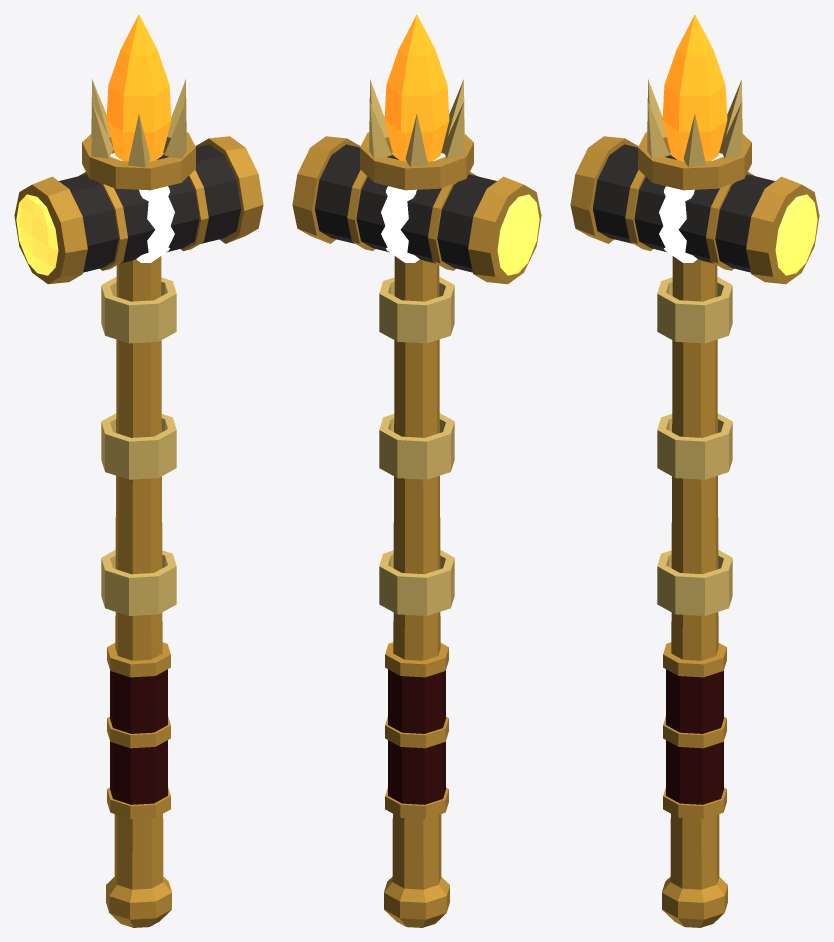
Rendered from queen_scepter.glb.
The picture shows the model from 3 angles, left to right: view 1: azimuth 30°, elevation 25°; view 2: azimuth 150°, elevation 25°; view 3: azimuth 330°, elevation 25°; orthographic projection.
Visible parts, largest first — view 1: queen_scepter; view 2: queen_scepter; view 3: queen_scepter.
Part boxes in pixels (<box>): queen_scepter: <box>14,14,263,927</box>; queen_scepter: <box>292,14,541,927</box>; queen_scepter: <box>570,14,819,927</box>.
Bounding box in the file's own units: 0.41 × 1.67 × 0.1807.
